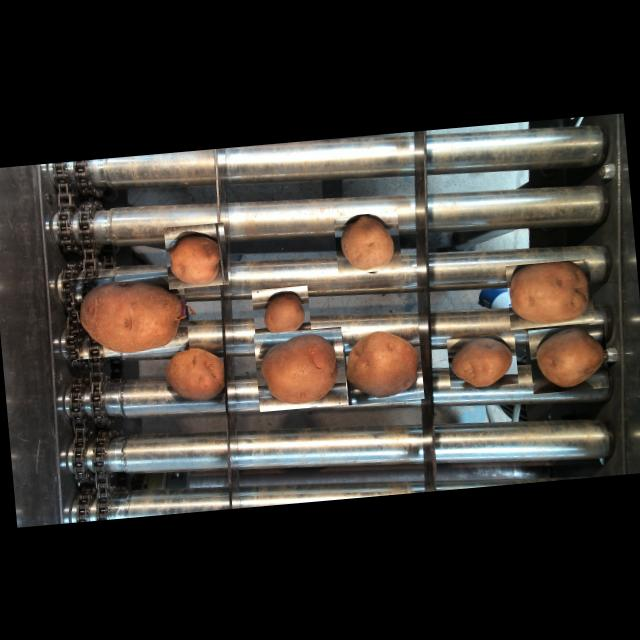Diseased-fungal potato: (68, 270, 190, 360), (253, 326, 347, 412), (342, 324, 424, 404), (505, 258, 594, 329), (528, 324, 609, 394), (158, 344, 234, 416), (333, 211, 402, 274), (164, 222, 228, 289), (446, 333, 518, 389), (251, 285, 311, 338)
